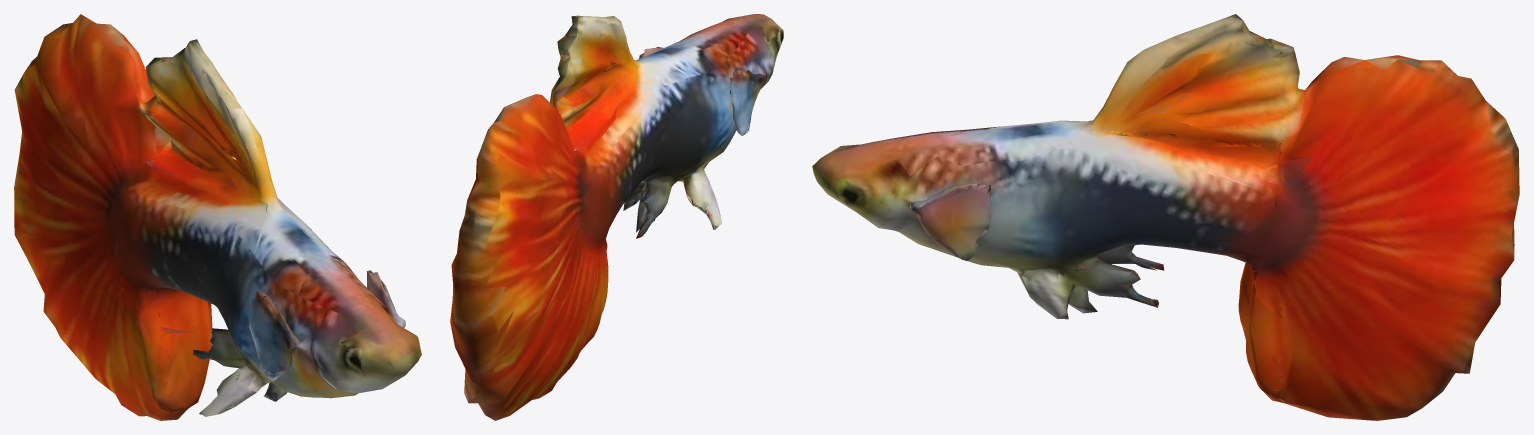
Rendered from strain-tuxedo_red.lo.glb.
3 renders of one model, left to right at view 1: azimuth 30°, elevation 25°; view 2: azimuth 150°, elevation 25°; view 3: azimuth 270°, elevation 25°, orthographic. The views are drawn at different scales.
Parts seen in each view (by area): view 1: Mesh_0.001; view 2: Mesh_0.001; view 3: Mesh_0.001.
Boxes of the visible parts, left/top/right/bottom form: Mesh_0.001: left=14, top=14, right=421, bottom=420; Mesh_0.001: left=450, top=14, right=783, bottom=420; Mesh_0.001: left=812, top=14, right=1519, bottom=420.
Bounding box in the file's own units: 0.00706 × 0.0209 × 0.0332.
2 materials, 2 textured.
